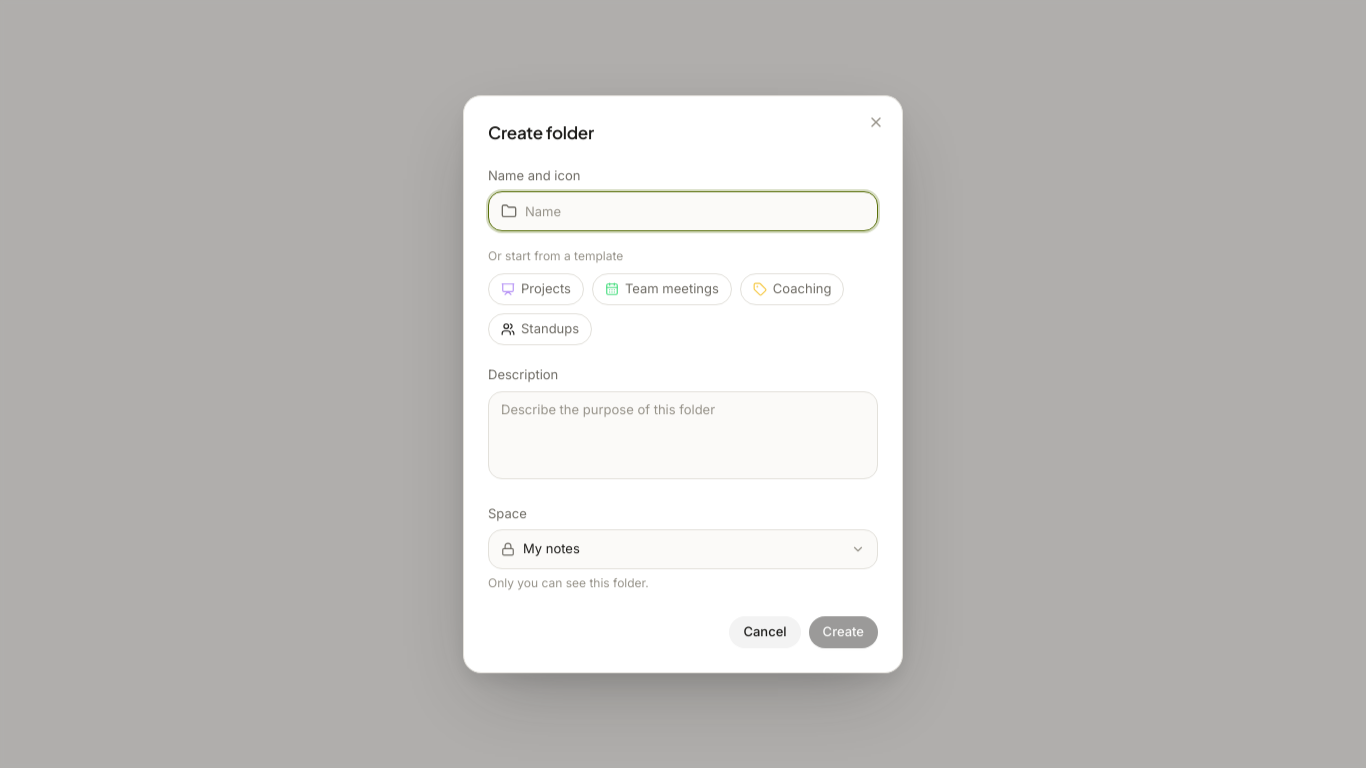
Scenario: CreateFolderDialog › keeps Create disabled until a name is entered
expect the heading "Create folder" is shown: met, box [488,121,594,143]
expect the button "Create" is disabled: met, box [809,616,878,648]
Type "Sales" into the field with placeholder "Name".
click(695, 211); type("Sales")  # box [525,192,865,230]
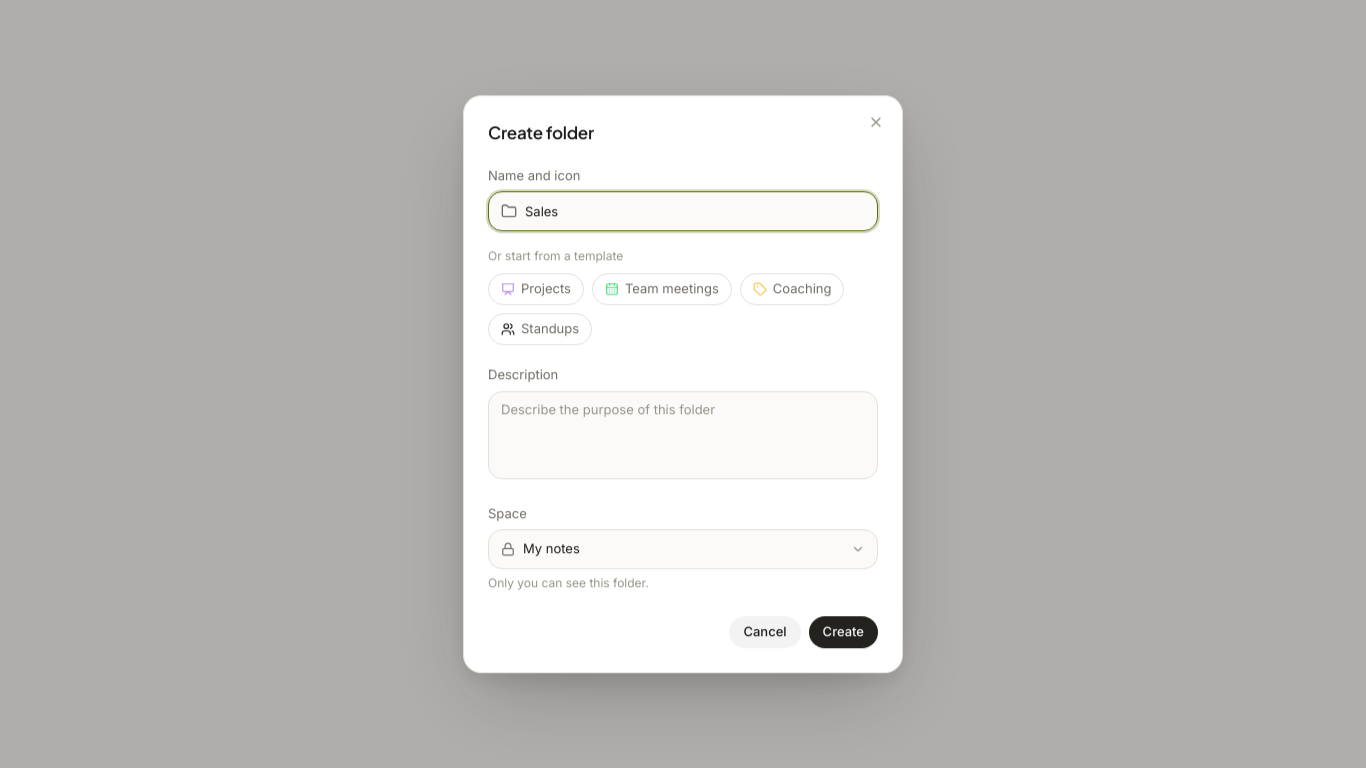
expect the button "Create" is enabled: met, box [809,616,878,648]
